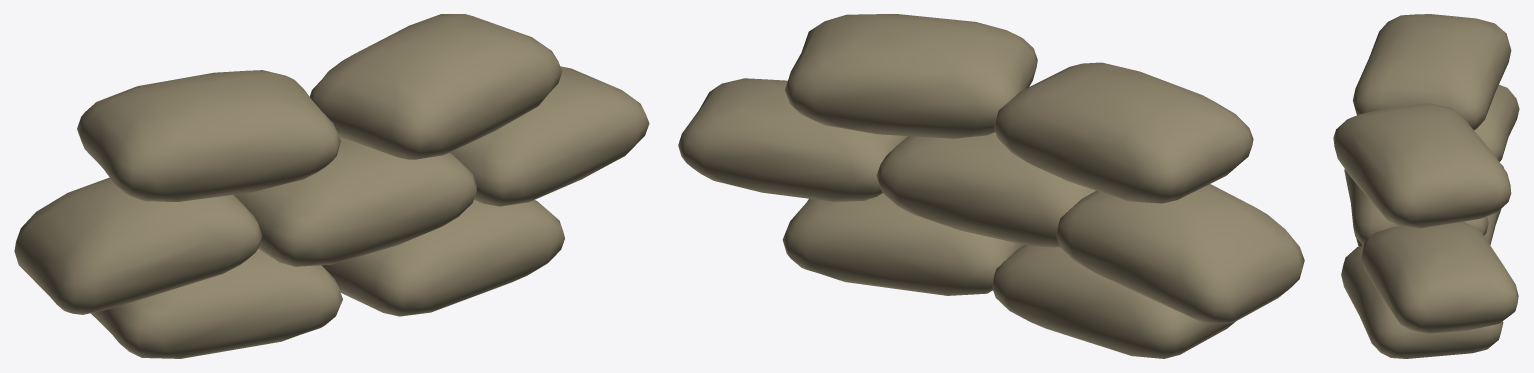
The model's file is sandbags_small.glb.
3 views of the same model, side by side, from view 1: azimuth 30°, elevation 25°; view 2: azimuth 150°, elevation 25°; view 3: azimuth 270°, elevation 25° (orthographic). The views are drawn at different scales.
Parts seen in each view (by area): view 1: SackTrench_Small; view 2: SackTrench_Small; view 3: SackTrench_Small.
Part boxes in pixels (bbox=[...]): SackTrench_Small: bbox=[14, 14, 649, 358]; SackTrench_Small: bbox=[678, 14, 1304, 358]; SackTrench_Small: bbox=[1333, 14, 1519, 358].
Bounding box in the file's own units: 2.32 × 0.9309 × 0.75.
